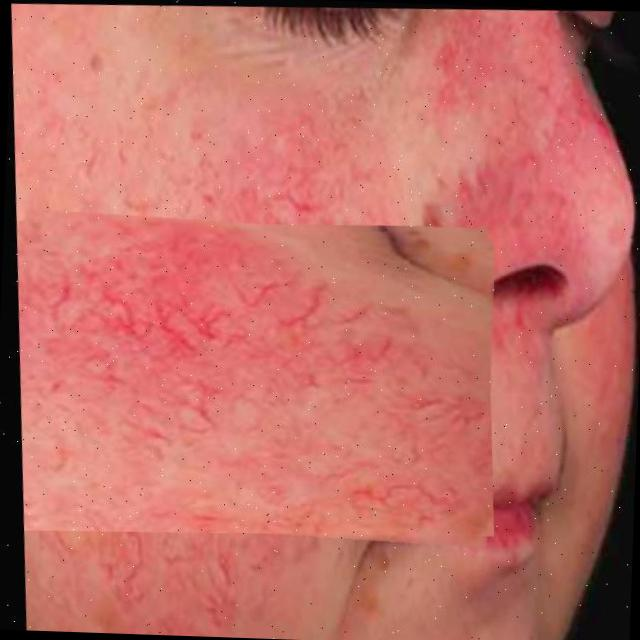redness: (15, 214, 482, 537), (426, 13, 634, 290)
